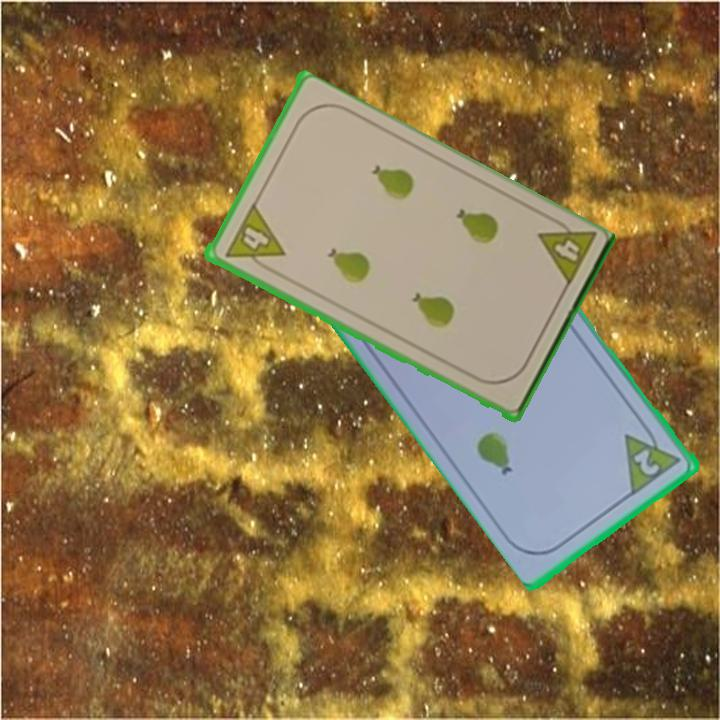2p: (621, 419, 685, 498)
4p: (533, 211, 599, 291), (221, 201, 287, 277)
